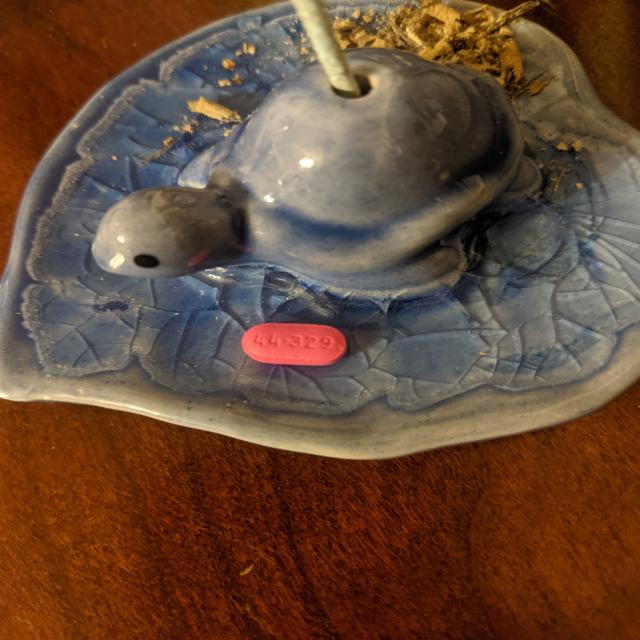non-organic waste: (240, 322, 349, 367)
